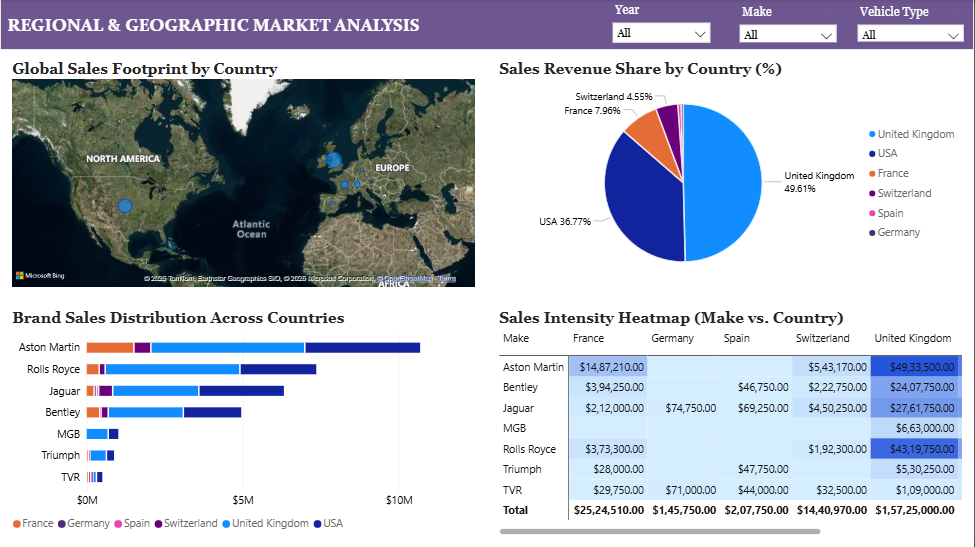

The page's visual inventory and layout, read from the dashboard file:
{"tool":"powerbi","page":{"name":"Regional Analysis","canvas":[1280,720],"ordinal":2},"visuals":[{"type":"shape","box":[0,0,1279.7,67],"z":0},{"type":"shape","box":[0,67,1279.7,653],"z":6000},{"type":"slicer","fields":{"Values":["Date.Year"]},"box":[799.7,5.5,137.6,56.4],"z":7000},{"type":"slicer","fields":{"Values":["Automobile.Make"]},"box":[967,7.9,136.6,48.6],"z":8000},{"type":"slicer","fields":{"Values":["Automobile.VehicleType"]},"box":[1121.7,8.3,148.6,48.2],"z":9000},{"type":"map","title":"Global Sales Footprint by Country","fields":{"Size":["_Measures.Total Sales"],"Category":["Automobile.CountryName"]},"box":[0,67,639.9,327.2],"z":10000},{"type":"pieChart","title":"Sales Revenue Share by Country (%)","fields":{"Category":["Automobile.CountryName"],"Y":["_Measures.Total Sales"]},"box":[639.9,67,639.9,327.2],"z":11000},{"type":"barChart","title":"Brand Sales Distribution Across Countries","fields":{"Y":["_Measures.Total Sales"],"Category":["Automobile.Make"],"Series":["Automobile.CountryName"]},"box":[0,394.2,639.9,325.8],"z":12000},{"type":"pivotTable","title":"Sales Intensity Heatmap (Make vs. Country)","fields":{"Rows":["Automobile.Make"],"Columns":["Automobile.CountryName"],"Values":["_Measures.Total Sales"]},"box":[639.9,394.2,639.9,325.8],"z":13000}]}

Visuals, with their boxes in screenshot pixels (x1, y1, x2, y2), scaled from the page's 1280x720 canvas onto the 975x547 screenshot:
shape: l=0, t=0, r=974, b=51
shape: l=0, t=51, r=974, b=546
slicer - Date.Year: l=609, t=4, r=714, b=47
slicer - Automobile.Make: l=737, t=6, r=841, b=43
slicer - Automobile.VehicleType: l=854, t=6, r=968, b=43
"Global Sales Footprint by Country" map: l=0, t=51, r=487, b=299
"Sales Revenue Share by Country (%)" pieChart: l=487, t=51, r=974, b=299
"Brand Sales Distribution Across Countries" barChart: l=0, t=299, r=487, b=546
"Sales Intensity Heatmap (Make vs. Country)" pivotTable: l=487, t=299, r=974, b=546
